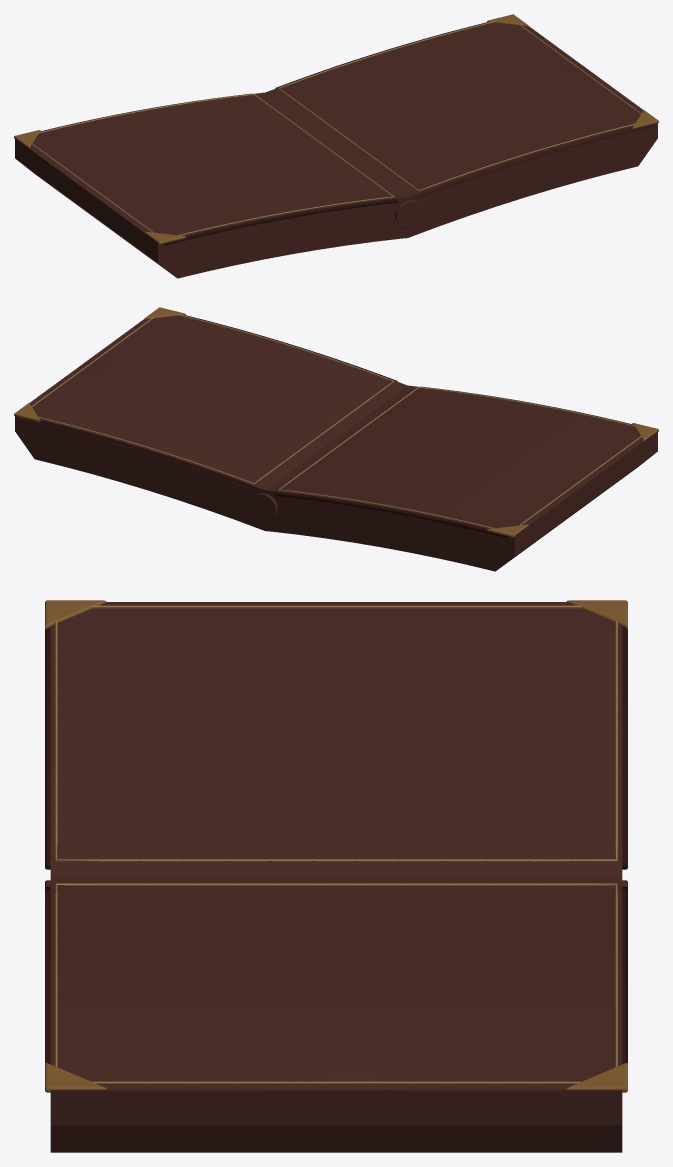
The model's file is book_open.glb.
3 views of the same model, one above another, from view 1: azimuth 30°, elevation 25°; view 2: azimuth 150°, elevation 25°; view 3: azimuth 270°, elevation 25° (orthographic). The views are drawn at different scales.
Parts seen in each view (by area): view 1: Cube.001, JournalDetail_RightStitching, JournalDetail_LeftStitching, JournalDetail_LeftRailBottom, JournalDetail_RoundedSpine, JournalDetail_RightRailBottom; view 2: Cube.001, JournalDetail_RightStitching, JournalDetail_LeftStitching, JournalDetail_LeftRailTop, JournalDetail_RoundedSpine, JournalDetail_RightRailTop; view 3: Cube.001, JournalDetail_LeftStitching, JournalDetail_RightStitching, JournalDetail_LeftRailBottom, JournalDetail_LeftRailTop, JournalDetail_RightRailBottom, JournalDetail_RightRailTop, JournalDetail_LeftCornerTop, JournalDetail_LeftCornerBottom, JournalDetail_RightCornerBottom, JournalDetail_RightCornerTop.
Part boxes in pixels (x1=…): Cube.001: x1=15, y1=22, x2=657, y2=278; JournalDetail_RightStitching: x1=278, y1=21, x2=641, y2=191; JournalDetail_LeftStitching: x1=31, y1=94, x2=394, y2=235; JournalDetail_LeftRailBottom: x1=163, y1=199, x2=397, y2=245; JournalDetail_RoundedSpine: x1=395, y1=199, x2=421, y2=228; JournalDetail_RightRailBottom: x1=420, y1=124, x2=653, y2=196; Cube.001: x1=15, y1=315, x2=657, y2=571; JournalDetail_RightStitching: x1=31, y1=314, x2=394, y2=484; JournalDetail_LeftStitching: x1=278, y1=387, x2=641, y2=528; JournalDetail_LeftRailTop: x1=275, y1=492, x2=509, y2=538; JournalDetail_RoundedSpine: x1=251, y1=492, x2=277, y2=521; JournalDetail_RightRailTop: x1=19, y1=417, x2=252, y2=489; Cube.001: x1=50, y1=602, x2=622, y2=1152; JournalDetail_LeftStitching: x1=55, y1=605, x2=617, y2=861; JournalDetail_RightStitching: x1=55, y1=883, x2=617, y2=1083; JournalDetail_LeftRailBottom: x1=45, y1=627, x2=50, y2=869; JournalDetail_LeftRailTop: x1=622, y1=627, x2=627, y2=869; JournalDetail_RightRailBottom: x1=45, y1=886, x2=50, y2=1064; JournalDetail_RightRailTop: x1=622, y1=886, x2=627, y2=1064; JournalDetail_LeftCornerTop: x1=566, y1=600, x2=627, y2=629; JournalDetail_LeftCornerBottom: x1=45, y1=600, x2=106, y2=629; JournalDetail_RightCornerBottom: x1=45, y1=1063, x2=106, y2=1092; JournalDetail_RightCornerTop: x1=566, y1=1063, x2=627, y2=1092.
Size of the model in its own units: 0.4041 by 0.0445 by 0.204.
